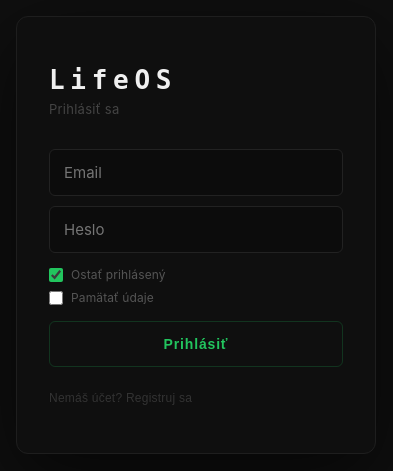
it: AuthPage › switching to register mode › can switch back to login mode
This screenshot has width=393, height=471.
Click the button "Nemáš účet? Registruj sa" at (121, 398), box x1=49 y1=391 x2=192 y2=405
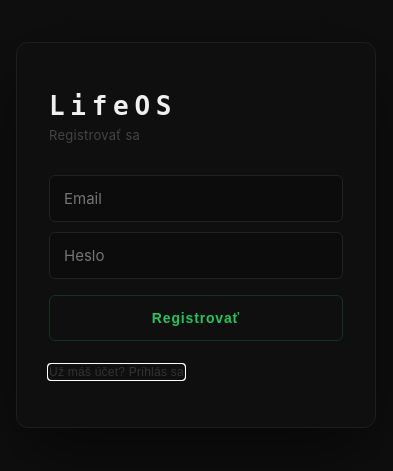
Click the button "Už máš účet? Prihlás sa" at (116, 372), box x1=49 y1=365 x2=184 y2=379
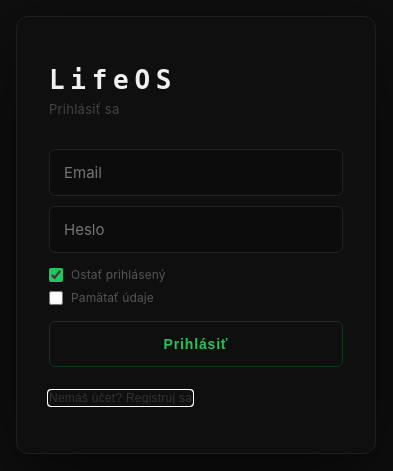
Result: the button "Prihlásiť" is shown at x1=49 y1=321 x2=343 y2=367
